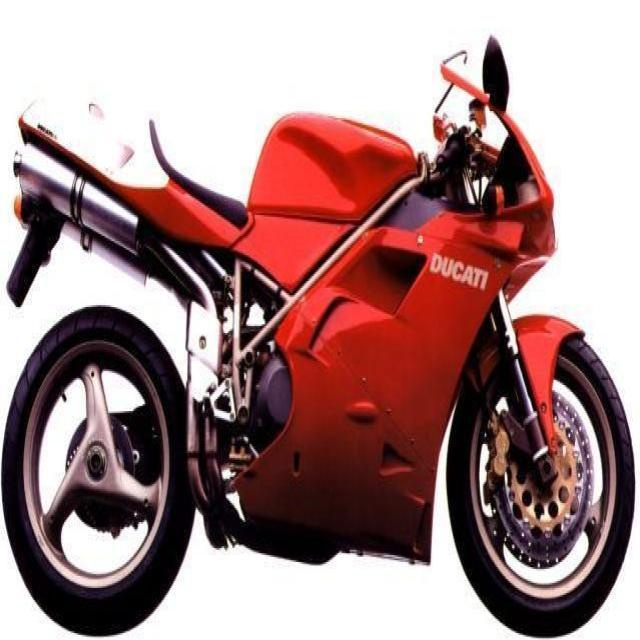Motorcycle: (11, 54, 637, 640)
